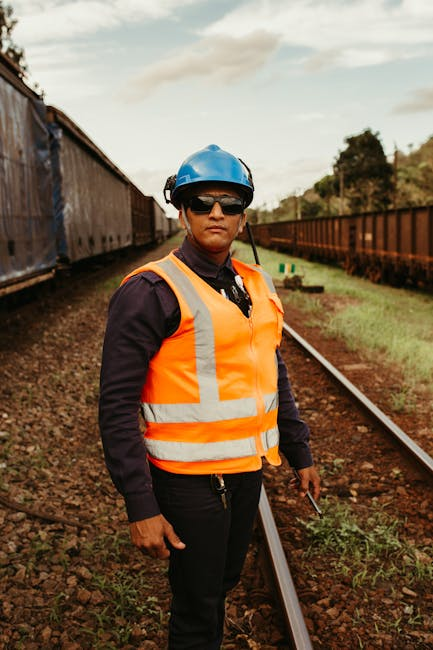safety_helmet: (167, 143, 255, 209)
